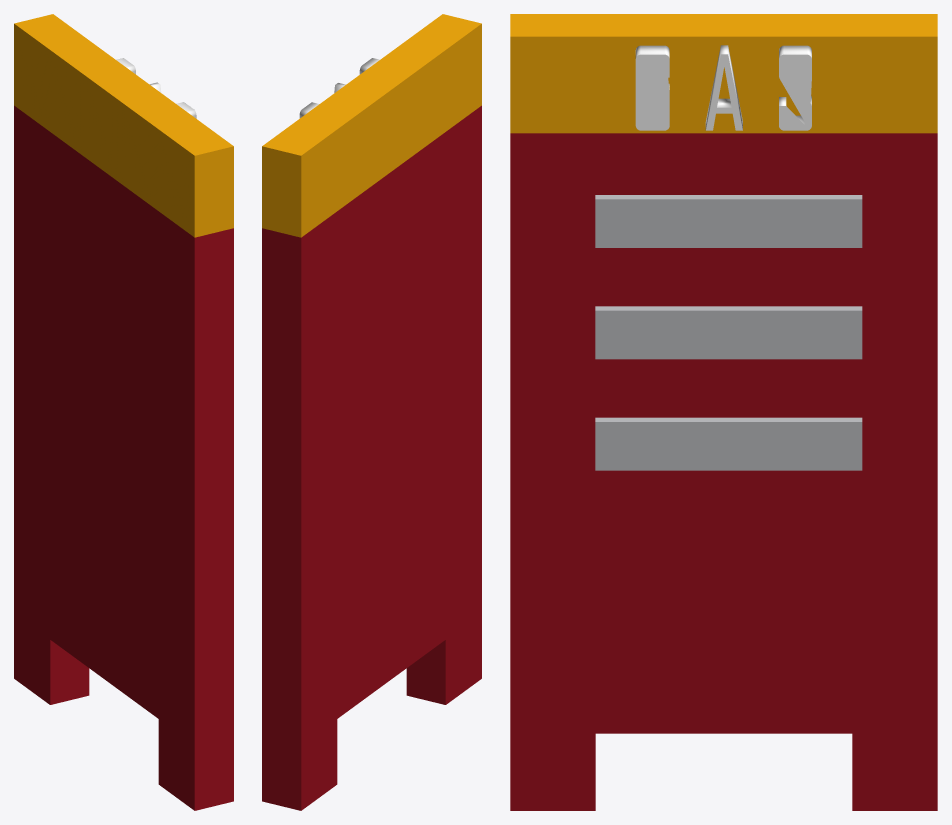
File: gas_price.fbx
3 renders of one model, left to right at view 1: azimuth 30°, elevation 25°; view 2: azimuth 150°, elevation 25°; view 3: azimuth 270°, elevation 25°, orthographic. The views are drawn at different scales.
Parts seen in each view (by area): view 1: Cube; view 2: Cube; view 3: Cube.
Part boxes in pixels (bbox=[...]): Cube: bbox=[14, 14, 233, 810]; Cube: bbox=[262, 14, 481, 810]; Cube: bbox=[510, 14, 937, 810].
Size of the model in its own units: 70 by 800 by 400.
